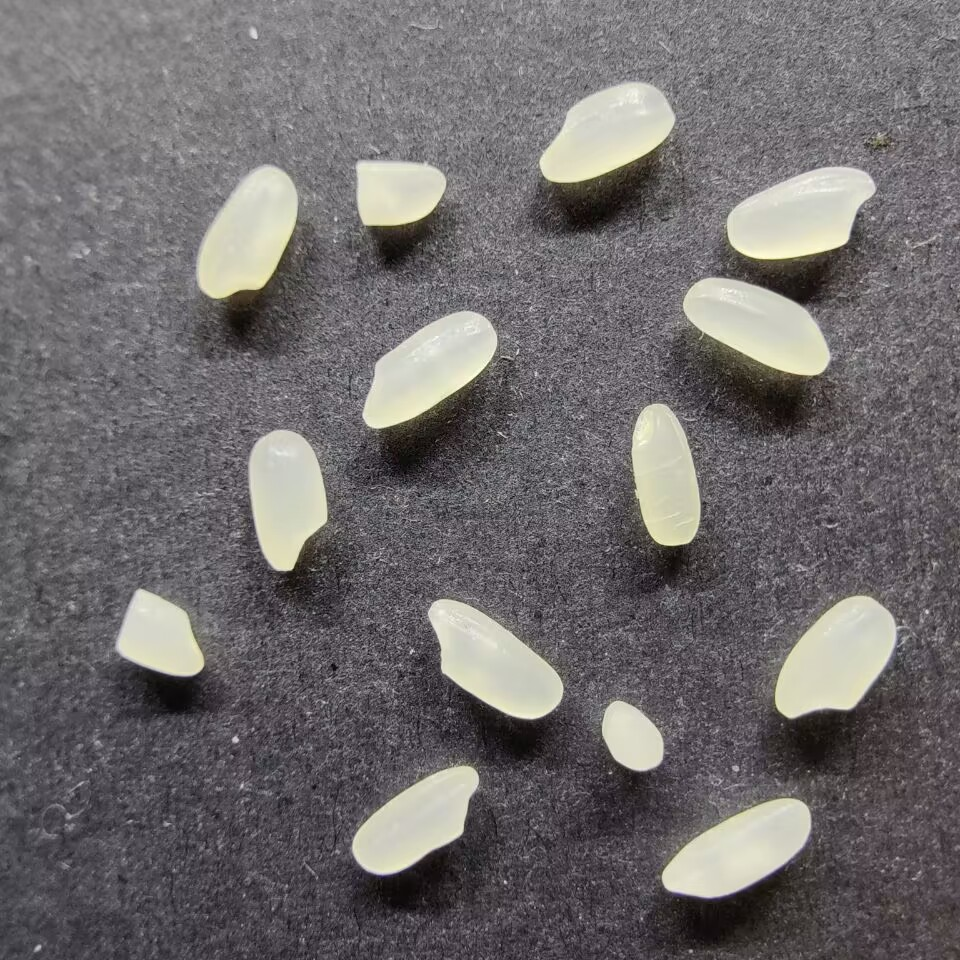broken: (114, 587, 205, 678), (353, 159, 447, 226), (600, 698, 665, 773)
rice: (426, 597, 564, 720), (360, 310, 498, 429), (659, 796, 812, 900), (772, 594, 898, 719), (681, 276, 831, 377), (349, 763, 478, 876), (537, 80, 675, 184), (725, 166, 877, 260), (194, 164, 299, 300), (246, 427, 329, 573), (629, 402, 701, 548)
